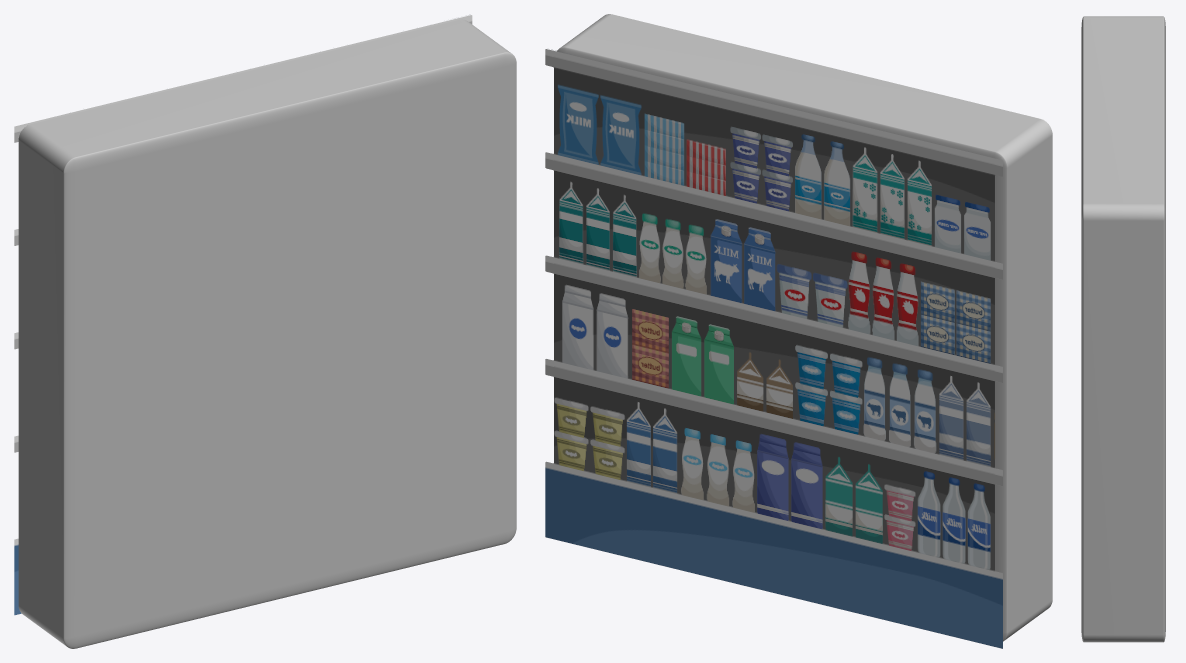
Rendered from uploads_files_3595072_Cold+Fridge1.fbx.
The picture shows the model from 3 angles, left to right: view 1: azimuth 30°, elevation 25°; view 2: azimuth 150°, elevation 25°; view 3: azimuth 270°, elevation 25°; orthographic projection. The views are drawn at different scales.
Visible parts, largest first — view 1: ChamferBox001, Plane00; view 2: Plane00, ChamferBox001; view 3: ChamferBox001.
Part boxes in pixels (x1,y1,x2,y2): ChamferBox001: [18, 19, 516, 648]; Plane00: [14, 14, 472, 615]; Plane00: [545, 49, 1002, 648]; ChamferBox001: [557, 14, 1052, 641]; ChamferBox001: [1081, 16, 1165, 642].
Size of the model in its own units: 249 by 47.58 by 255.
Materials: 2 (2 with a texture image).
